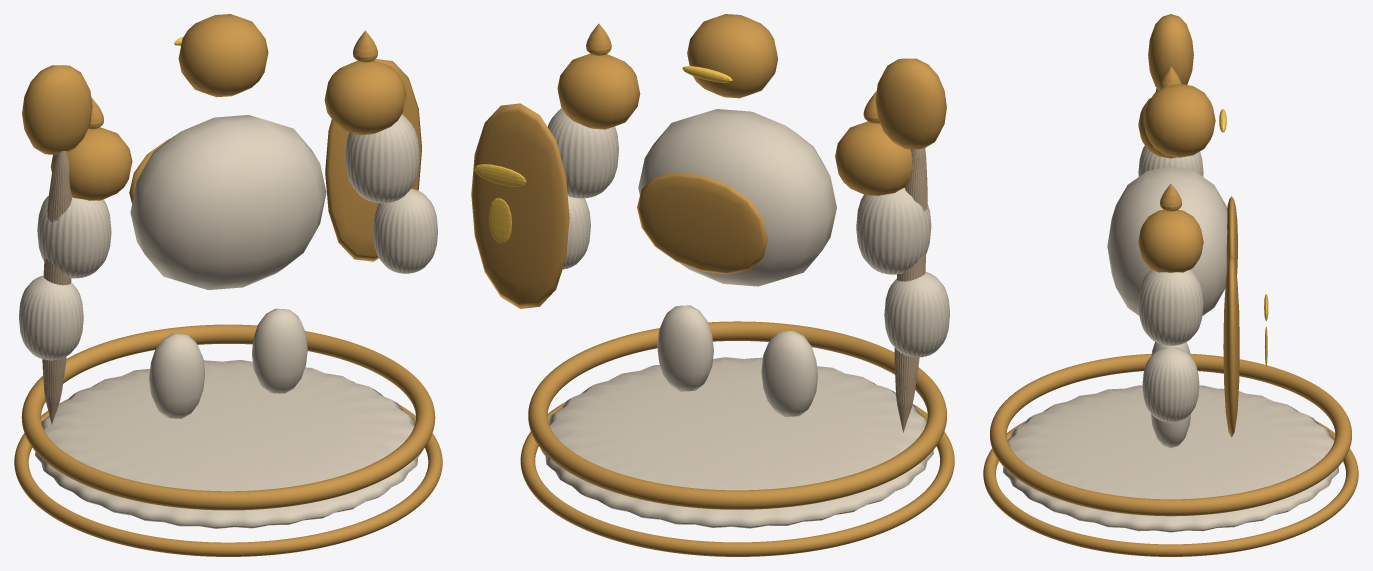
Rendered from rook_white.obj.
The picture shows the model from 3 angles, left to right: view 1: azimuth 30°, elevation 25°; view 2: azimuth 150°, elevation 25°; view 3: azimuth 270°, elevation 25°; orthographic projection. The views are drawn at different scales.
Parts seen in each view (by area): view 1: rook_white; view 2: rook_white; view 3: rook_white.
Part boxes in pixels (box(x1,y1,x2,y2)): rook_white: box(14, 14, 442, 556); rook_white: box(471, 14, 954, 556); rook_white: box(983, 14, 1358, 556).
Size of the model in its own units: 1.01 by 0.9977 by 0.8668.
